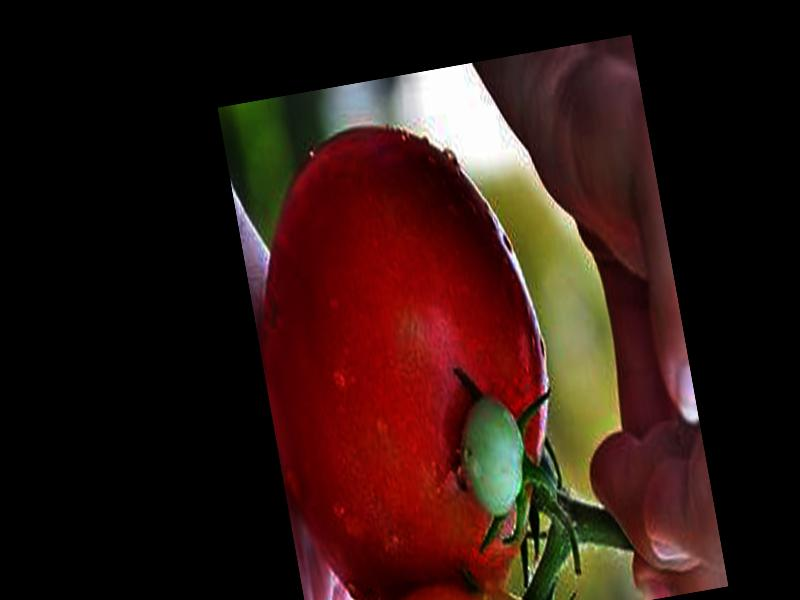Tomato: (225, 104, 584, 600)
